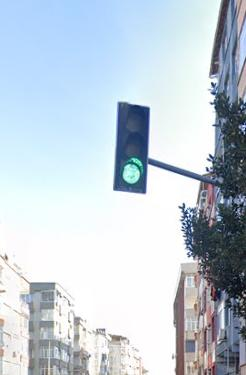greenlight: (116, 102, 148, 197)
